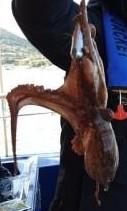Cephalopod: (6, 0, 120, 184)
